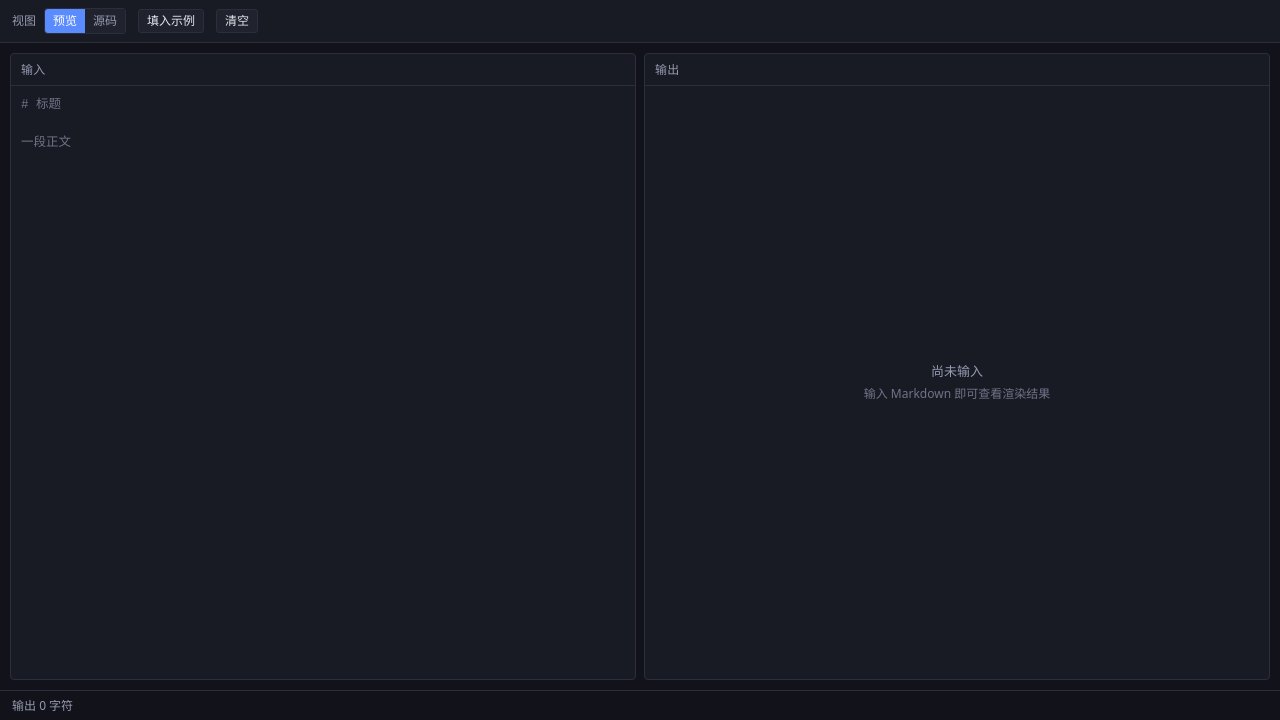
Test: Markdown 转 HTML 工具 › 远程图片渲染为占位块，不产出 img 元素
Type "![截图](https://example.com/a.png)" into the text box named "Markdown 源码".
click(323, 227); type("![截图](https://example.com/a.png)")  # box [11,86,635,368]
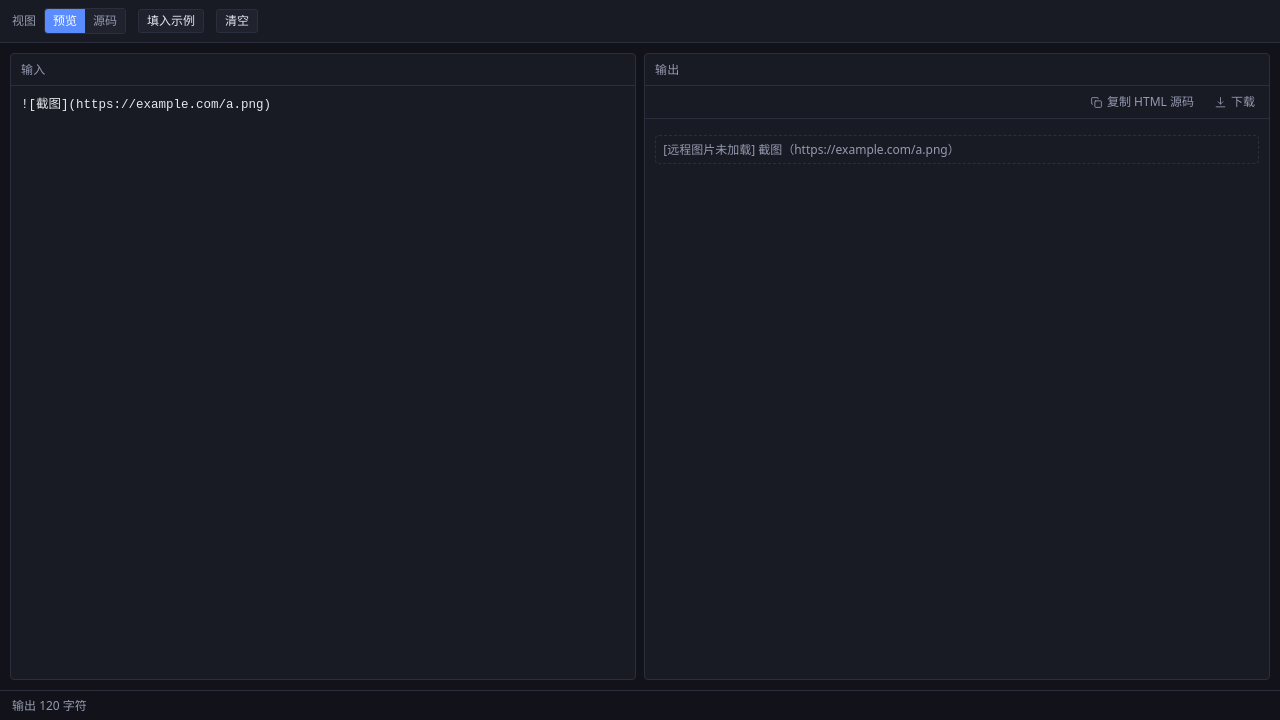
Check: the element with test id "md-preview" shows "远程图片未加载", box [663,141,960,158]
